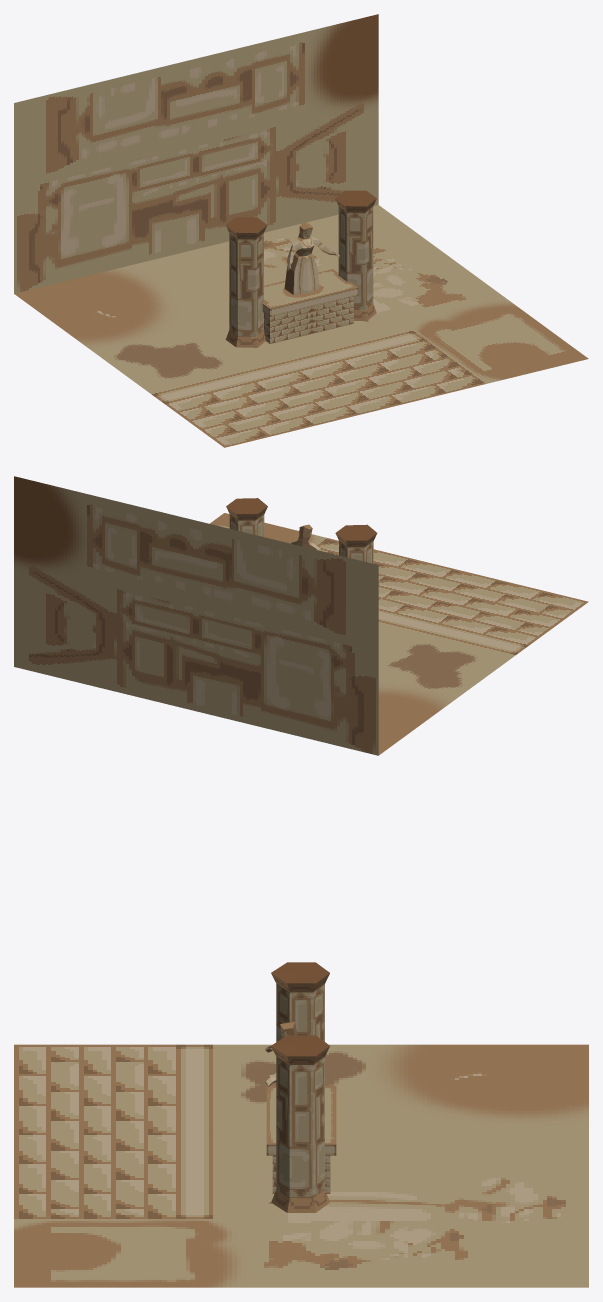
The model's file is shrine.gltf.
3 renders of one model, top to bottom at view 1: azimuth 30°, elevation 25°; view 2: azimuth 150°, elevation 25°; view 3: azimuth 270°, elevation 25°, orthographic. The views are drawn at different scales.
Visible parts, largest first — view 1: Plane.001, Plane, Cube, Cylinder, Cylinder.001, statue; view 2: Plane.001, Plane, Cylinder.001, Cylinder; view 3: Plane, Cylinder.001, Cylinder, Cube.
Boxes of the visible parts, x1=… form: Plane.001: x1=14, y1=14, x2=378, y2=293; Plane: x1=14, y1=205, x2=588, y2=447; Cube: x1=262, y1=269, x2=358, y2=343; Cylinder: x1=225, y1=217, x2=267, y2=347; Cylinder.001: x1=335, y1=190, x2=376, y2=321; statue: x1=284, y1=222, x2=339, y2=294; Plane.001: x1=14, y1=476, x2=378, y2=755; Plane: x1=209, y1=513, x2=588, y2=755; Cylinder.001: x1=226, y1=498, x2=267, y2=536; Cylinder: x1=335, y1=524, x2=377, y2=563; Plane: x1=14, y1=1044, x2=588, y2=1287; Cylinder.001: x1=271, y1=1035, x2=329, y2=1212; Cylinder: x1=271, y1=962, x2=329, y2=1041; Cube: x1=266, y1=1085, x2=336, y2=1193.
Bounding box in the file's own units: 20 × 10.02 × 20.
Materials: 3 (3 with a texture image).
